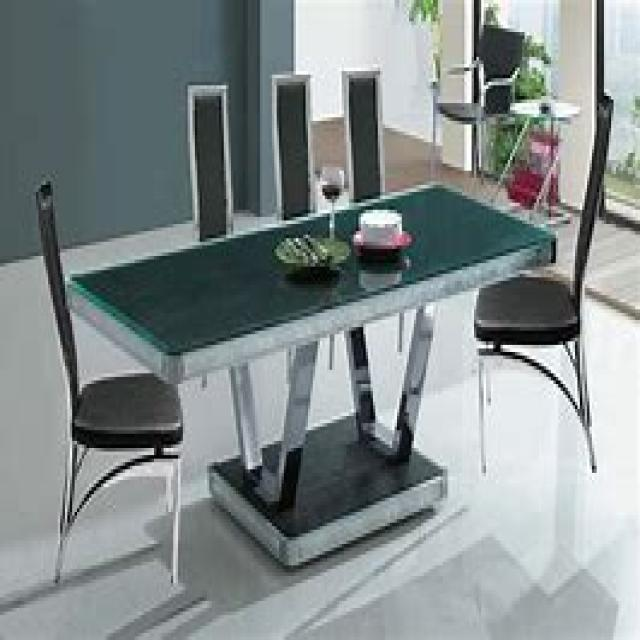chair: (34, 178, 183, 586), (472, 89, 614, 473)
table: (63, 178, 558, 569)
